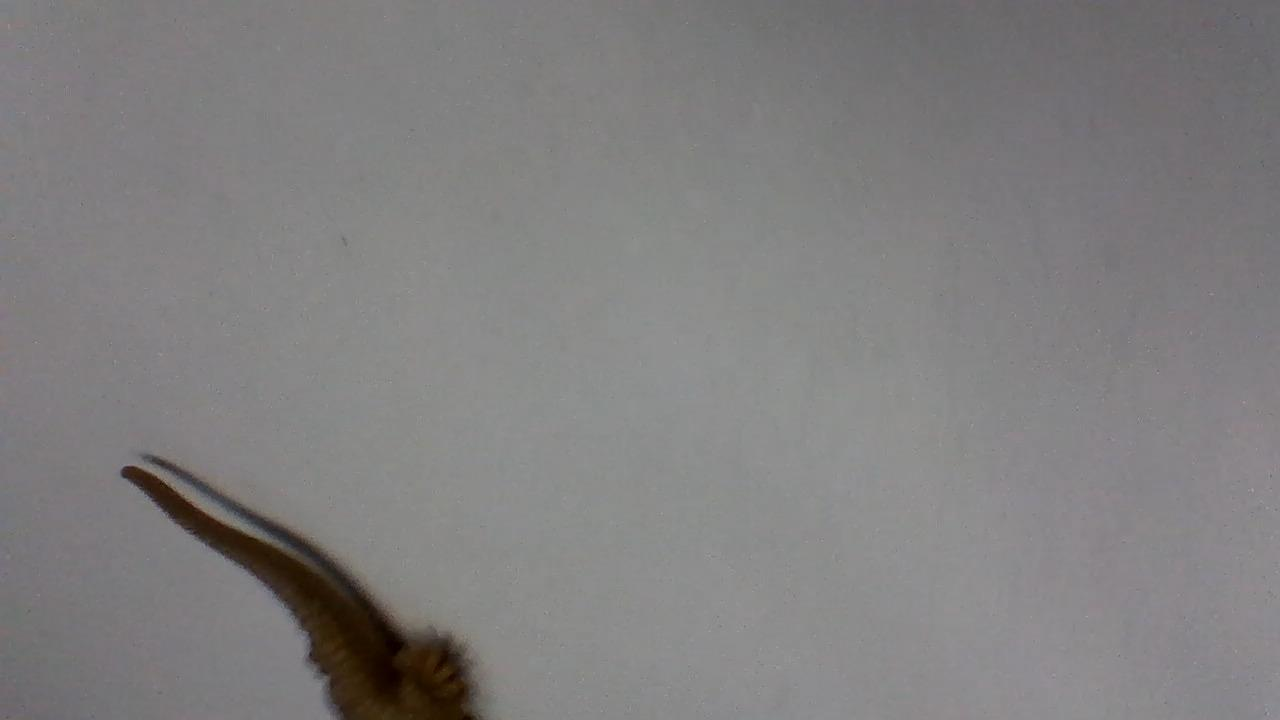lizard: (112, 451, 473, 720)
